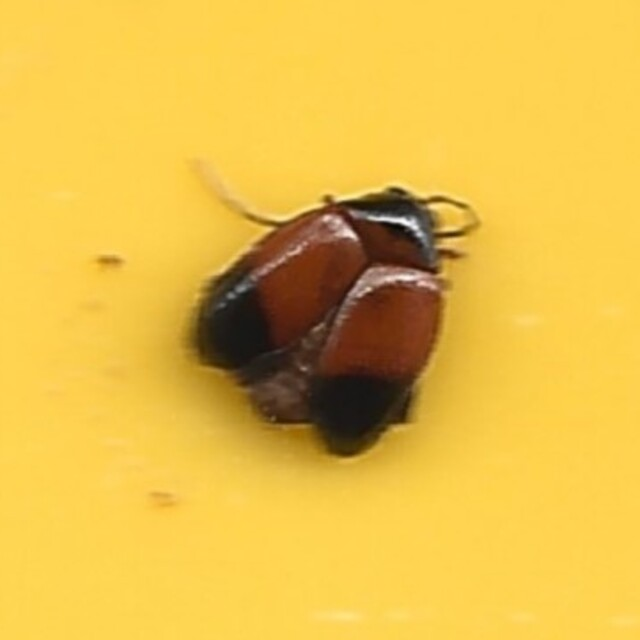Coleoptera: (177, 171, 463, 469)
